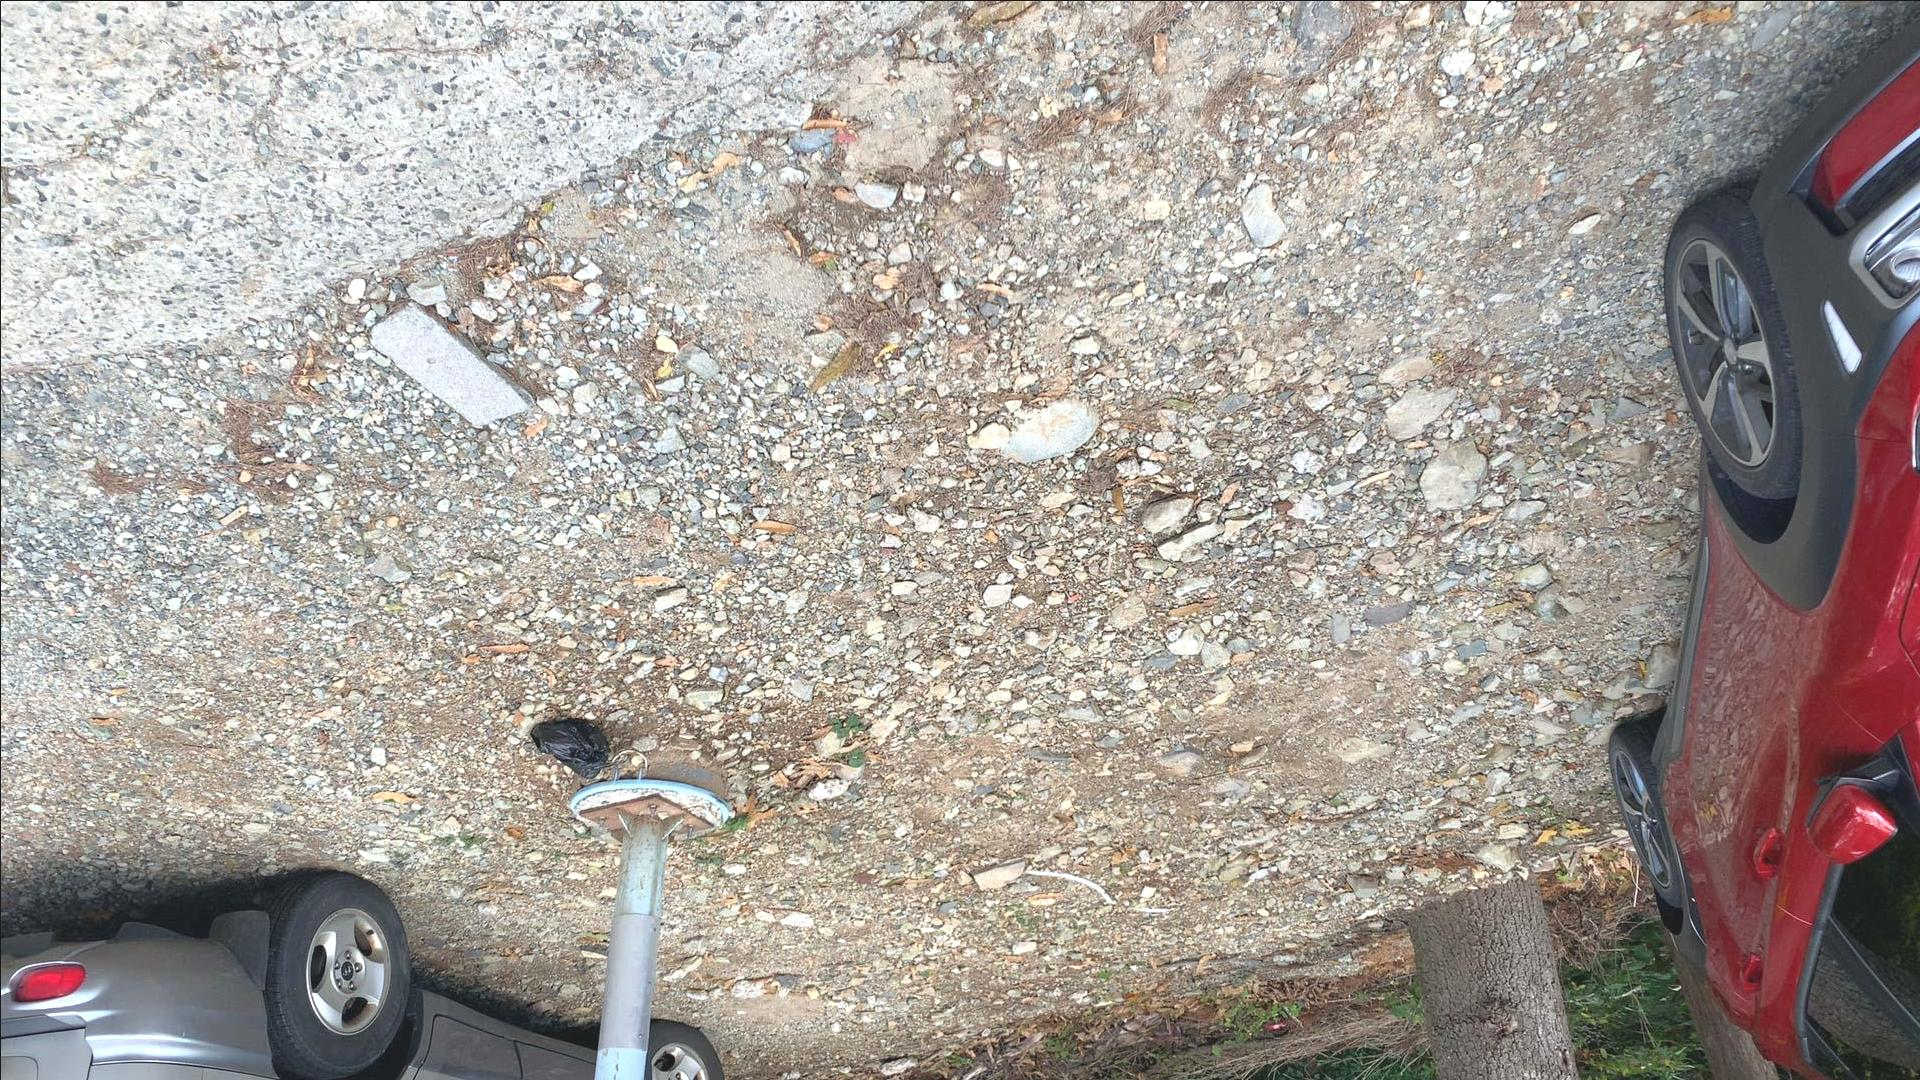black_bag: (522, 713, 618, 779)
